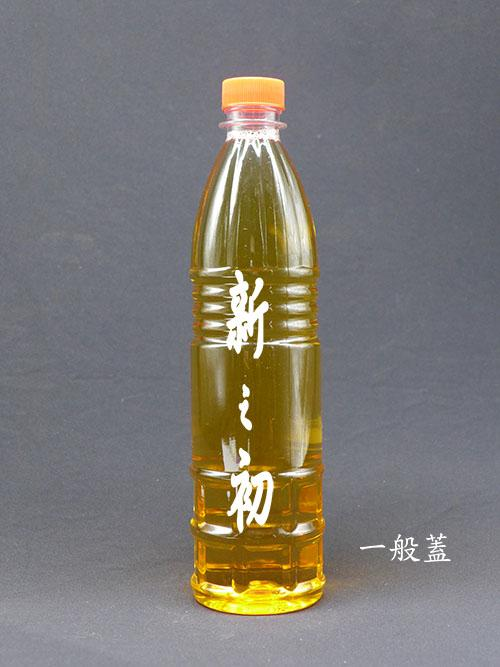bottle: (0, 0, 80, 285)
